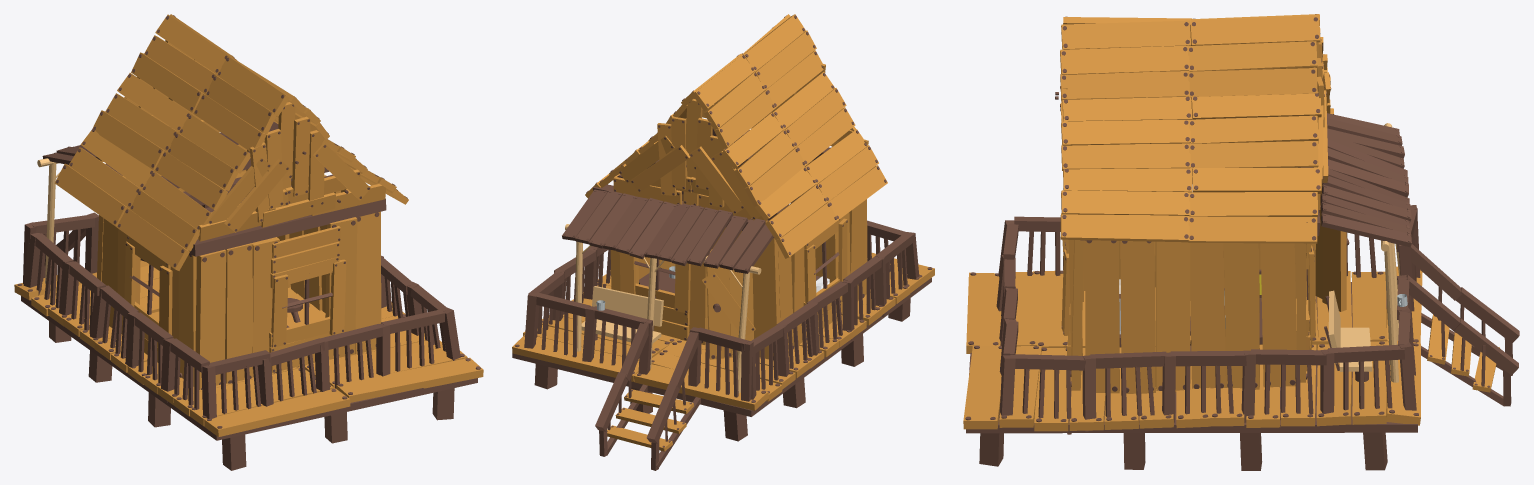
Rendered from Prairie Shed.glb.
The picture shows the model from 3 angles, left to right: view 1: azimuth 30°, elevation 25°; view 2: azimuth 150°, elevation 25°; view 3: azimuth 270°, elevation 25°; orthographic projection. The views are drawn at different scales.
Visible parts, largest first — view 1: group751609687, group2062784127, group696508989, group1236057312, group112769821, group1068141091, group1165411202, group763466415, group921118862, group1961152899, group1767808571, group1118934975 (+52 smaller); view 2: group751609687, group2062784127, group696508989, group93902515, group705443998, group334282972, group1961152899, group1208172976, group1619776521, group1891369108, group1133822439, group1875847879 (+59 smaller); view 3: group2095338242, group1317530826, group375213922, group1226838676, group760099368, group1623987197, group2007432431, group299252884, group1221669437, group1961152899, group1744443908, group1263320047 (+60 smaller).
Part boxes in pixels (left/top/right/bottom): group751609687: left=93, top=73, right=250, bottom=210; group2062784127: left=131, top=14, right=289, bottom=151; group696508989: left=54, top=128, right=212, bottom=270; group1236057312: left=195, top=249, right=226, bottom=389; group112769821: left=225, top=243, right=253, bottom=383; group1068141091: left=336, top=357, right=483, bottom=402; group1165411202: left=204, top=388, right=350, bottom=437; group763466415: left=355, top=211, right=381, bottom=354; group921118862: left=189, top=198, right=386, bottom=256; group1961152899: left=21, top=296, right=477, bottom=440; group1767808571: left=201, top=350, right=270, bottom=418; group1118934975: left=376, top=309, right=444, bottom=376; group751609687: left=721, top=72, right=855, bottom=206; group2062784127: left=692, top=14, right=823, bottom=148; group696508989: left=755, top=129, right=887, bottom=258; group93902515: left=618, top=99, right=760, bottom=220; group705443998: left=688, top=327, right=753, bottom=401; group334282972: left=752, top=238, right=780, bottom=359; group1961152899: left=512, top=278, right=931, bottom=416; group1208172976: left=524, top=292, right=590, bottom=357; group1619776521: left=581, top=284, right=663, bottom=343; group1891369108: left=634, top=364, right=768, bottom=410; group1133822439: left=512, top=335, right=639, bottom=381; group1875847879: left=776, top=301, right=818, bottom=376; group2095338242: left=1060, top=16, right=1320, bottom=100; group1317530826: left=1060, top=168, right=1321, bottom=243; group375213922: left=1061, top=92, right=1321, bottom=170; group1226838676: left=1085, top=240, right=1119, bottom=393; group760099368: left=1120, top=241, right=1155, bottom=393; group1623987197: left=1155, top=241, right=1190, bottom=391; group2007432431: left=1190, top=243, right=1225, bottom=388; group299252884: left=1260, top=243, right=1296, bottom=387; group1221669437: left=1224, top=243, right=1259, bottom=389; group1961152899: left=966, top=282, right=1417, bottom=433; group1744443908: left=1320, top=344, right=1404, bottom=413; group1263320047: left=1241, top=349, right=1326, bottom=422.
Bounding box in the file's own units: 2 × 2.39 × 3.14.
